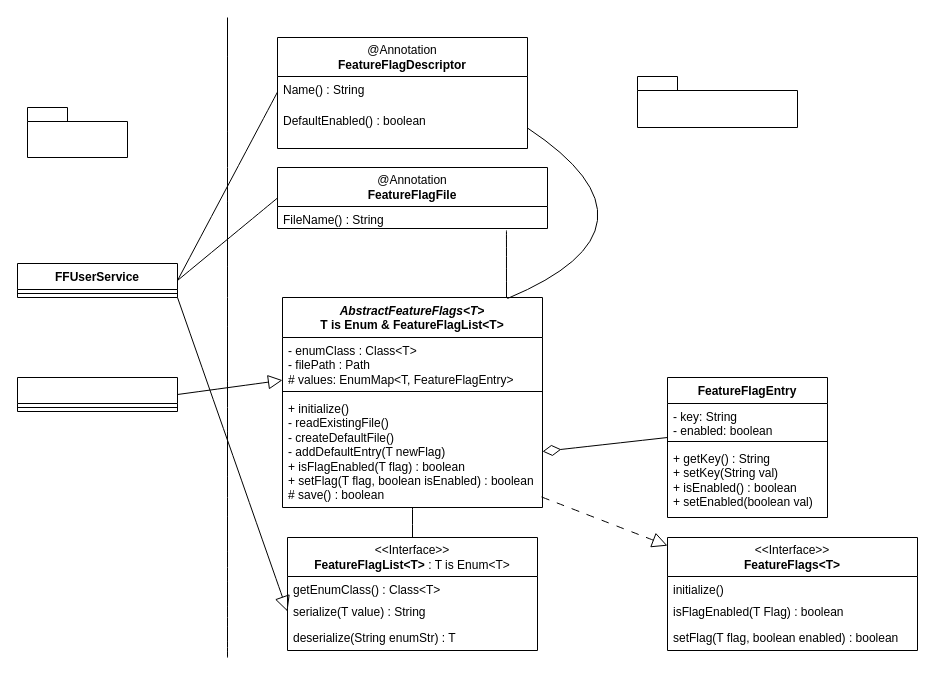
Image size: 935x676. Some labels were removed from this diagram. Here are the shapes that lost their labels. From the top down, the centre of each, then its label:
At point 717,102: "common.feature_flags".
At point 77,132: "go-user-service".
At point 97,394: "UserServiceFeatureFlags".
